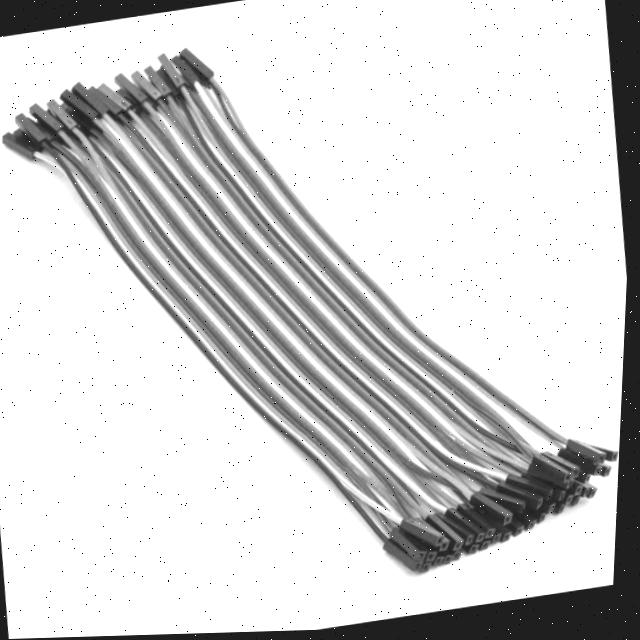Jumper Wires: (0, 27, 623, 609)
